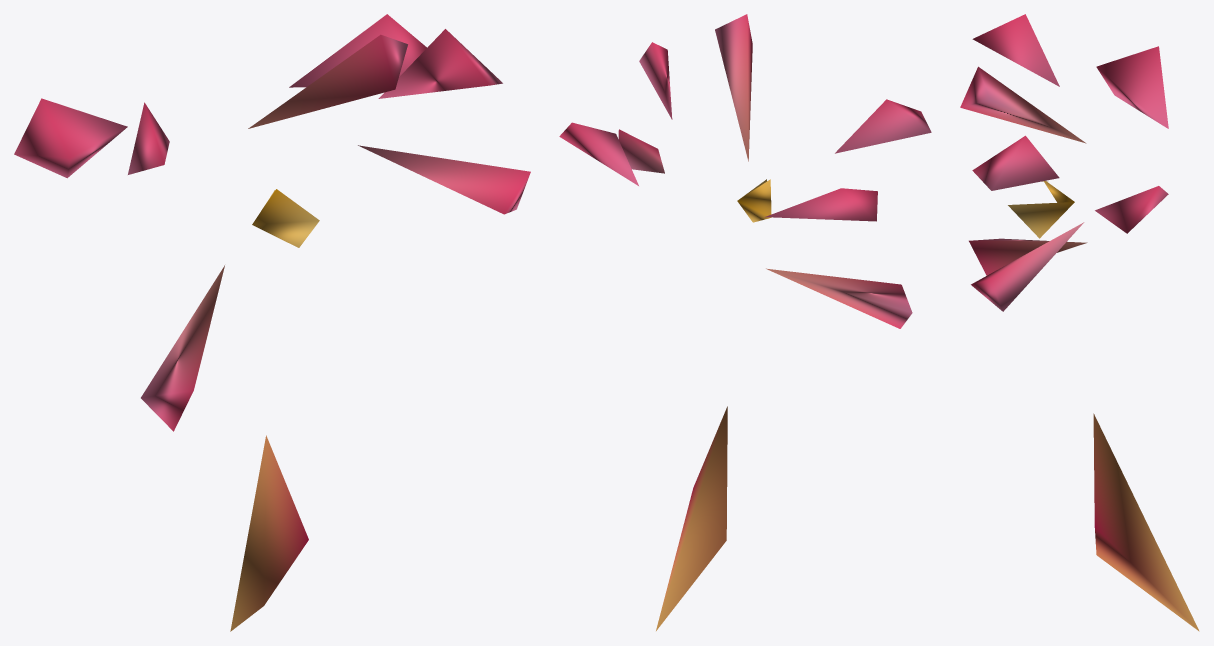
The model's file is mesh_lod_2_19863d0b-978e-57ce-b6c0-88c23ac08eba.glb.
3 views of the same model, side by side, from view 1: azimuth 30°, elevation 25°; view 2: azimuth 150°, elevation 25°; view 3: azimuth 270°, elevation 25° (orthographic). The views are drawn at different scales.
Parts seen in each view (by area): view 1: LOD 2_19863d0b-978e-57ce-b6c0-88c23ac08eba; view 2: LOD 2_19863d0b-978e-57ce-b6c0-88c23ac08eba; view 3: LOD 2_19863d0b-978e-57ce-b6c0-88c23ac08eba.
Part boxes in pixels (<box>): LOD 2_19863d0b-978e-57ce-b6c0-88c23ac08eba: <box>14,14,530,631</box>; LOD 2_19863d0b-978e-57ce-b6c0-88c23ac08eba: <box>559,14,931,630</box>; LOD 2_19863d0b-978e-57ce-b6c0-88c23ac08eba: <box>960,14,1199,631</box>.
Bounding box in the file's own units: 1.33 × 2.07 × 0.7879.
